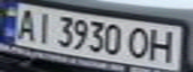0: (103, 21, 127, 56)
3: (54, 14, 75, 48), (87, 19, 106, 54)
9: (69, 16, 90, 52)
A: (12, 6, 39, 42)
H: (145, 27, 178, 64)
I: (30, 10, 57, 45)
O: (124, 25, 154, 61)
